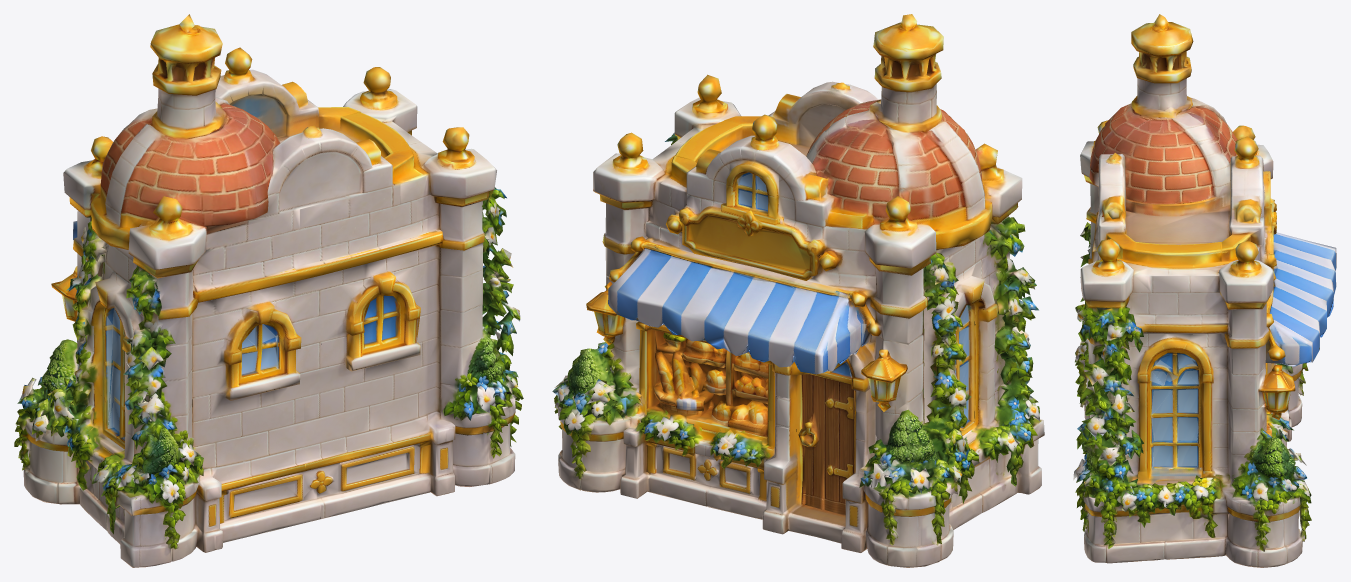
The model's file is HaloShop_Bakery_parts.glb.
3 renders of one model, left to right at view 1: azimuth 30°, elevation 25°; view 2: azimuth 150°, elevation 25°; view 3: azimuth 270°, elevation 25°, orthographic. The views are drawn at different scales.
Parts seen in each view (by area): view 1: HaloShop_Bakery_Body_t01, HaloShop_Bakery_Body_t11, HaloShop_Bakery_Body_t00, HaloShop_Bakery_Body_t10, HaloShop_Bakery_Display, HaloShop_Bakery_Glass, HaloShop_Bakery_WinPane; view 2: HaloShop_Bakery_Body_t01, HaloShop_Bakery_Body_t10, HaloShop_Bakery_Body_t00, HaloShop_Bakery_Body_t11, HaloShop_Bakery_Awning, HaloShop_Bakery_Display, HaloShop_Bakery_Door, HaloShop_Bakery_Glass, HaloShop_Bakery_WinPane, HaloShop_Bakery_DoorHw; view 3: HaloShop_Bakery_Body_t01, HaloShop_Bakery_Body_t10, HaloShop_Bakery_Body_t00, HaloShop_Bakery_Body_t11, HaloShop_Bakery_Awning, HaloShop_Bakery_WinPane, HaloShop_Bakery_Glass.
Part boxes in pixels (left/top/right/bottom): HaloShop_Bakery_Body_t01: left=17, top=47, right=523, bottom=567; HaloShop_Bakery_Body_t11: left=19, top=27, right=523, bottom=565; HaloShop_Bakery_Body_t00: left=17, top=58, right=521, bottom=552; HaloShop_Bakery_Body_t10: left=14, top=14, right=518, bottom=545; HaloShop_Bakery_Display: left=271, top=249, right=459, bottom=470; HaloShop_Bakery_Glass: left=106, top=308, right=278, bottom=433; HaloShop_Bakery_WinPane: left=106, top=310, right=278, bottom=430; HaloShop_Bakery_Body_t01: left=558, top=74, right=1044, bottom=552; HaloShop_Bakery_Body_t10: left=552, top=14, right=1036, bottom=561; HaloShop_Bakery_Body_t00: left=554, top=54, right=1043, bottom=567; HaloShop_Bakery_Body_t11: left=554, top=24, right=1041, bottom=566; HaloShop_Bakery_Awning: left=587, top=224, right=873, bottom=374; HaloShop_Bakery_Display: left=629, top=320, right=787, bottom=469; HaloShop_Bakery_Door: left=775, top=344, right=865, bottom=514; HaloShop_Bakery_Glass: left=737, top=173, right=969, bottom=419; HaloShop_Bakery_WinPane: left=737, top=173, right=968, bottom=418; HaloShop_Bakery_DoorHw: left=793, top=361, right=855, bottom=504; HaloShop_Bakery_Body_t01: left=1073, top=103, right=1311, bottom=556; HaloShop_Bakery_Body_t10: left=1075, top=14, right=1308, bottom=561; HaloShop_Bakery_Body_t00: left=1075, top=52, right=1309, bottom=563; HaloShop_Bakery_Body_t11: left=1075, top=22, right=1311, bottom=567; HaloShop_Bakery_Awning: left=1266, top=232, right=1336, bottom=385; HaloShop_Bakery_WinPane: left=1150, top=354, right=1199, bottom=467; HaloShop_Bakery_Glass: left=1150, top=354, right=1198, bottom=467.
Size of the model in its own units: 22.68 by 26.23 by 14.59.
Materials: 10 (9 with a texture image).
